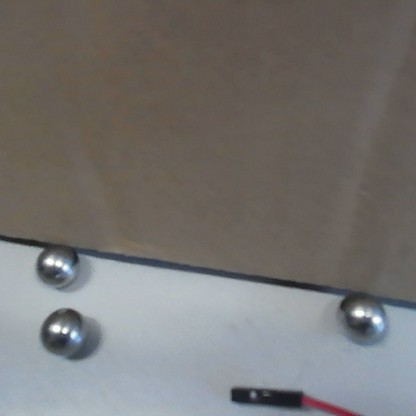ironball: (329, 283, 391, 350), (33, 305, 88, 358), (31, 239, 88, 288)
